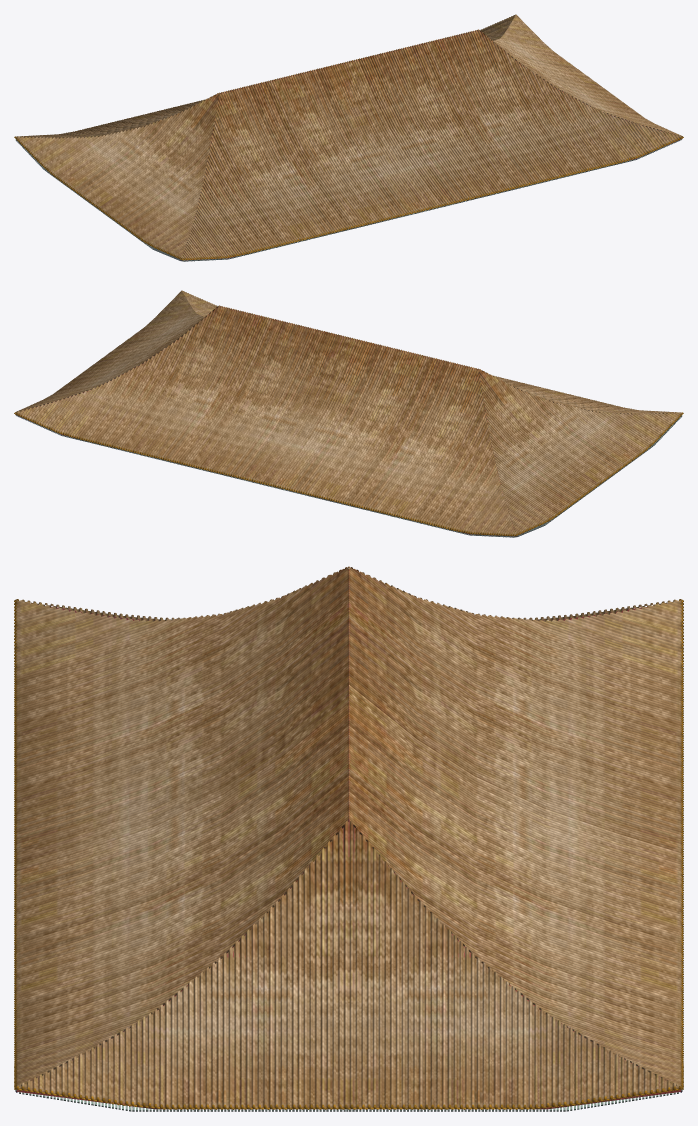
File: 上屋顶.obj
3 renders of one model, top to bottom at view 1: azimuth 30°, elevation 25°; view 2: azimuth 150°, elevation 25°; view 3: azimuth 270°, elevation 25°, orthographic. The views are drawn at different scales.
Parts seen in each view (by area): view 1: Obj3d66_17342430_6_45, Obj3d66_17342430_16_935.001; view 2: Obj3d66_17342430_6_45, Obj3d66_17342430_16_935.001; view 3: Obj3d66_17342430_6_45, Obj3d66_17342430_16_935.001, Obj3d66_17342430_33_561.001.
Part boxes in pixels (x1=…): Obj3d66_17342430_6_45: x1=14, y1=14, x2=683, y2=260; Obj3d66_17342430_16_935.001: x1=15, y1=139, x2=681, y2=261; Obj3d66_17342430_6_45: x1=14, y1=290, x2=683, y2=536; Obj3d66_17342430_16_935.001: x1=16, y1=415, x2=682, y2=537; Obj3d66_17342430_6_45: x1=14, y1=566, x2=683, y2=1109; Obj3d66_17342430_16_935.001: x1=15, y1=1089, x2=682, y2=1111; Obj3d66_17342430_33_561.001: x1=16, y1=570, x2=681, y2=1109.
Bounding box in the file's own units: 2447 × 492 × 1417.
Materials: 5 (5 with a texture image).
